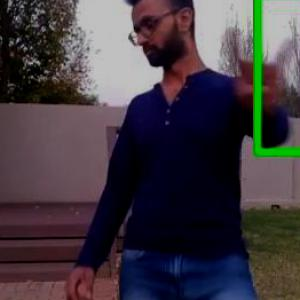takeoff-hand: (210, 18, 299, 126)
